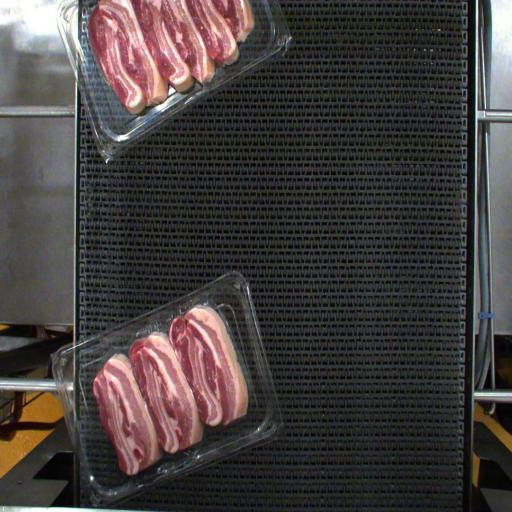unsealed: (128, 264, 263, 426)
